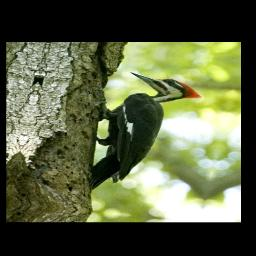Woodpecker: (79, 70, 207, 199)
